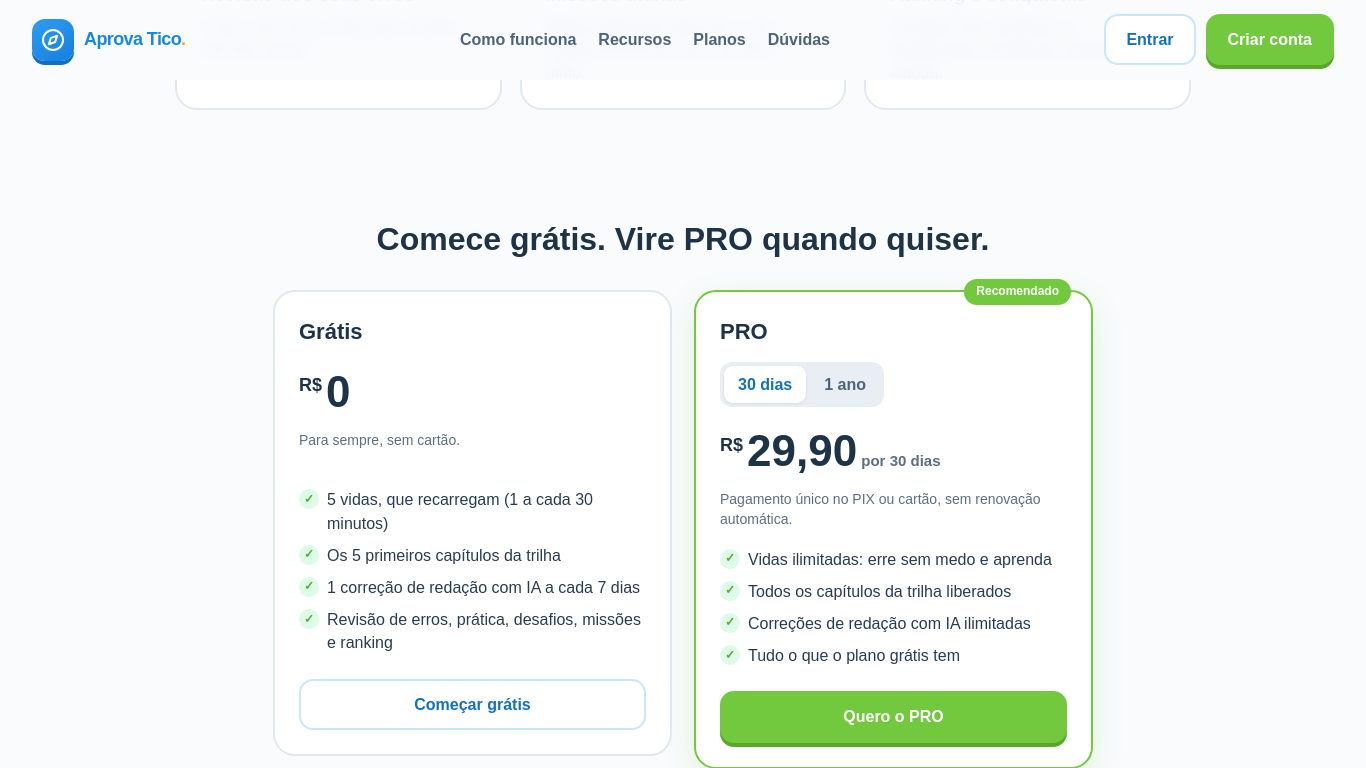
página inicial › planos: trocar para 1 ano mostra o preço anual
The image size is (1366, 768).
(page scrolled)
Expected: the text "29,90" is shown, [747,426,857,475]
Click the button "1 ano": (845, 385) [810,366,880,403]
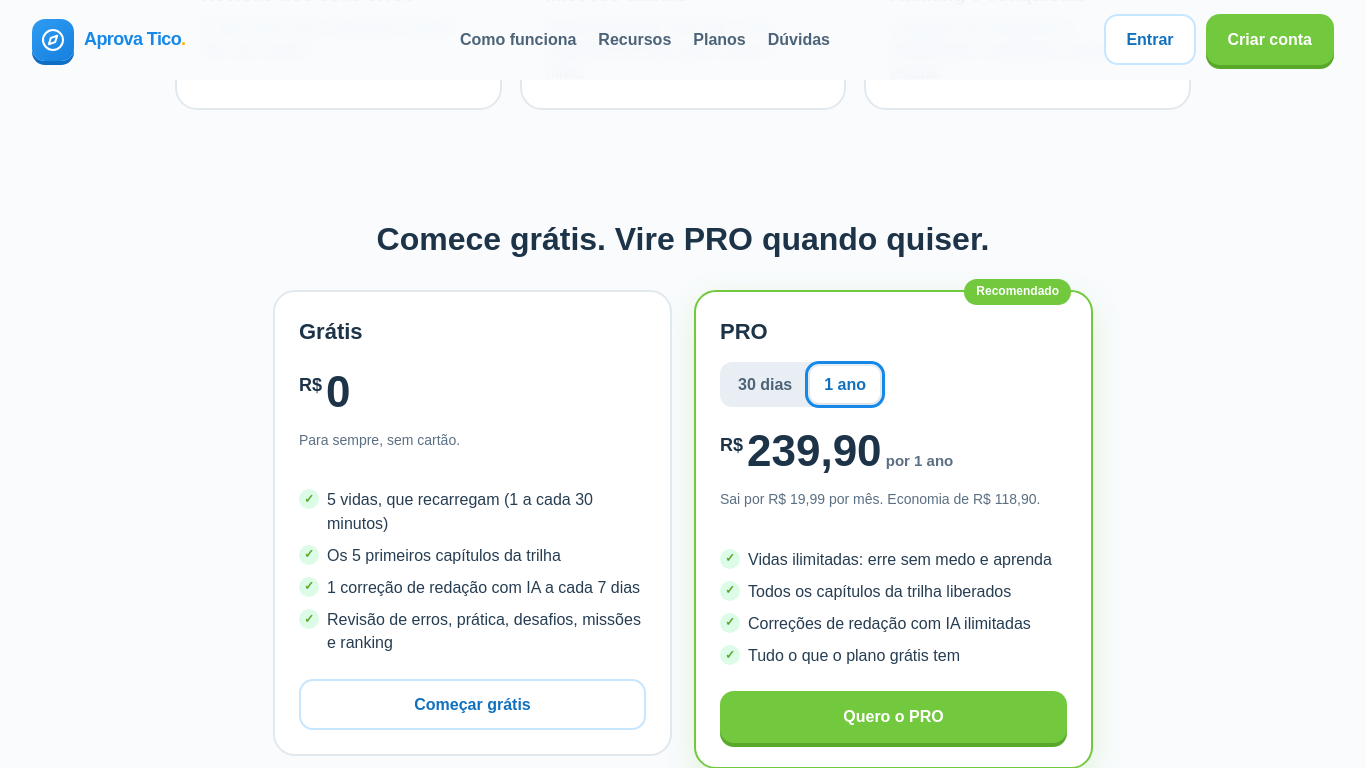
Expected: the text "239,90" is shown, [747,426,882,475]
